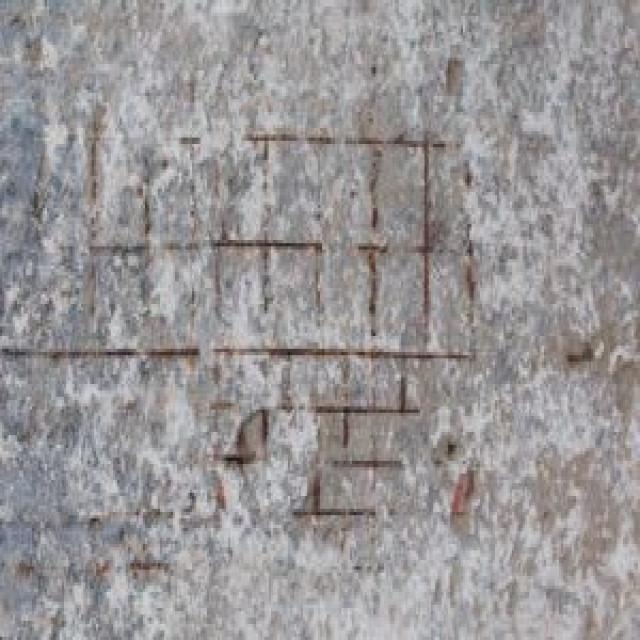Rebar: (12, 93, 483, 588)
